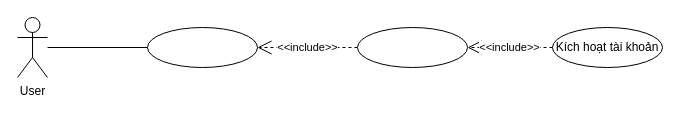
Some shapes in this 680 by 116 pixel diagram are drawn without their labels. Here are the shapes that lost their labels. From the top down, the centre of each, then its label:
the point at 202,47: Đăng ký tài khoản
the point at 412,47: Gửi link kích hoạt
